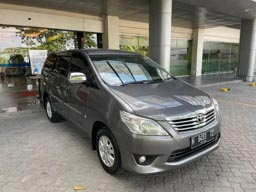plat: (187, 129, 214, 148)
